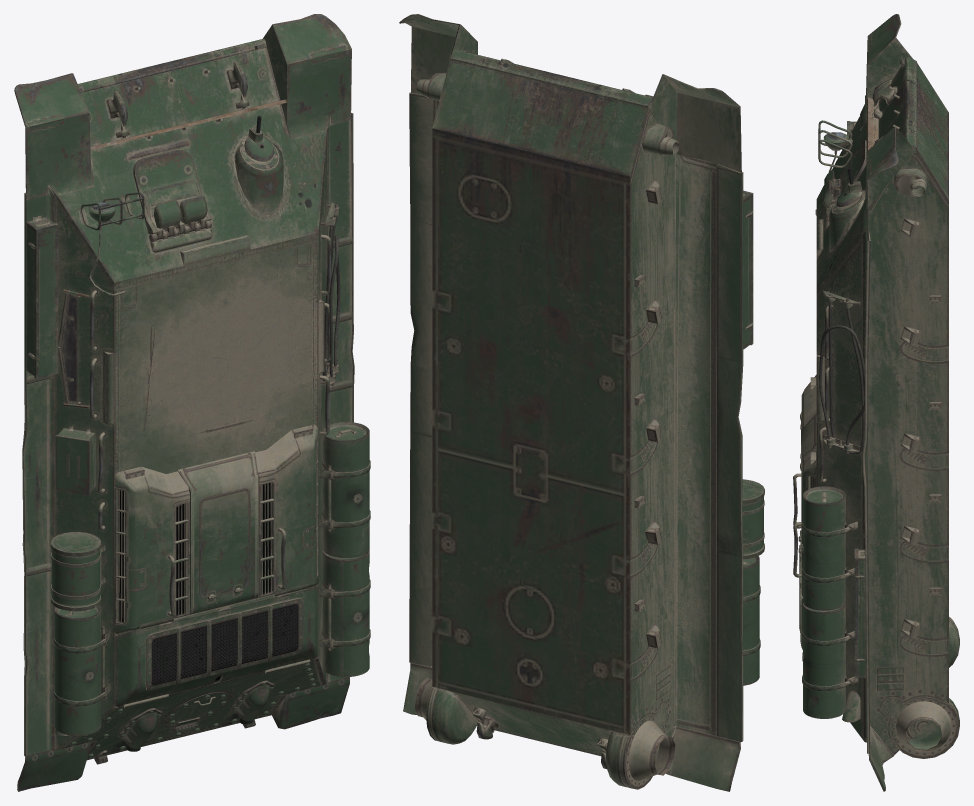
Rendered from Hull.glb.
3 views of the same model, side by side, from view 1: azimuth 30°, elevation 25°; view 2: azimuth 150°, elevation 25°; view 3: azimuth 270°, elevation 25° (orthographic). The views are drawn at different scales.
Visible parts, largest first — view 1: set_0_group_0; view 2: set_0_group_0; view 3: set_0_group_0.
Boxes of the visible parts, bbox=[...] form: set_0_group_0: bbox=[14, 14, 370, 791]; set_0_group_0: bbox=[399, 14, 764, 791]; set_0_group_0: bbox=[793, 14, 959, 791].
Size of the model in its own units: 3.01 by 6.11 by 1.45.
Materials: 1 (1 with a texture image).
